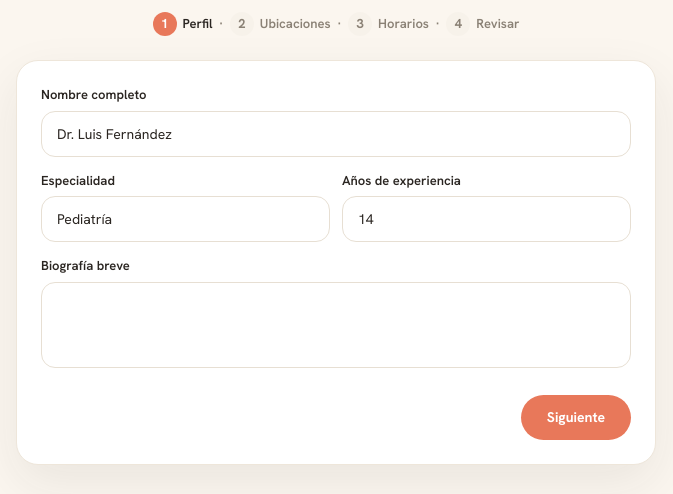
Test case: OnboardingWizard › disables Siguiente on the locations step when there are no locations
Click the button "Siguiente".
click(576, 417)  # box 521,394 -> 631,440
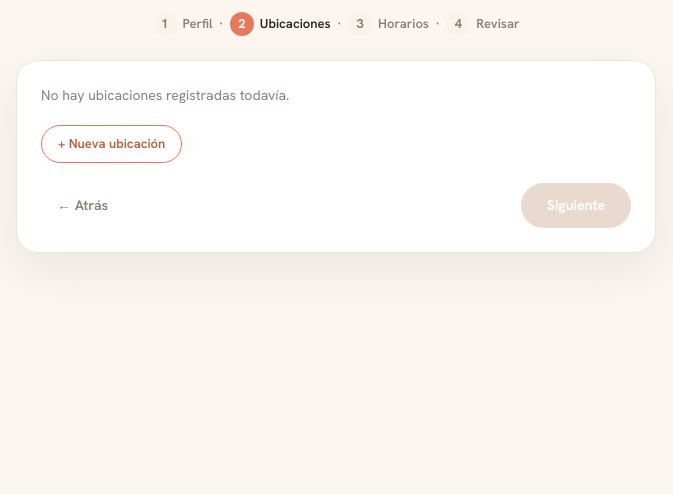
Expected: the button "Siguiente" is disabled, 521,182 -> 631,228
